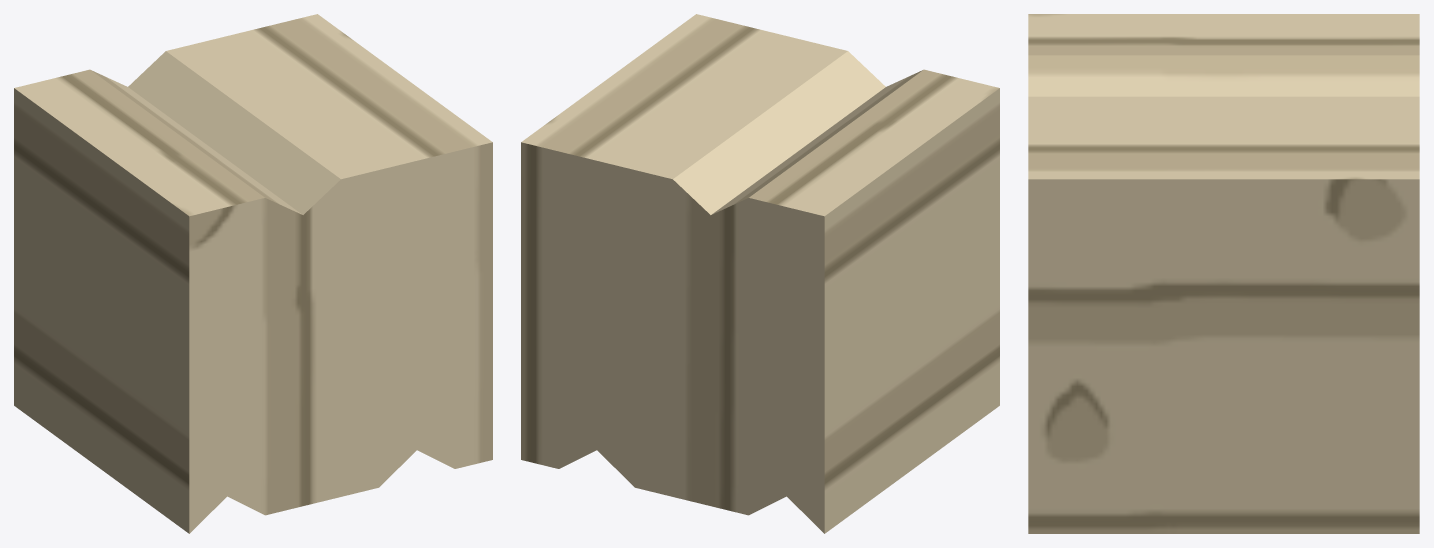
Rendered from item-wood-rectangle.glb.
3 renders of one model, left to right at view 1: azimuth 30°, elevation 25°; view 2: azimuth 150°, elevation 25°; view 3: azimuth 270°, elevation 25°, orthographic. The views are drawn at different scales.
Size of the model in its own units: 2 by 2 by 2.
1 material, 1 textured.
